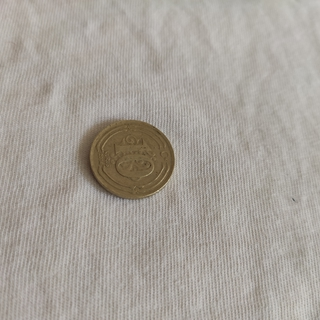10KURUS: (87, 118, 177, 201)
